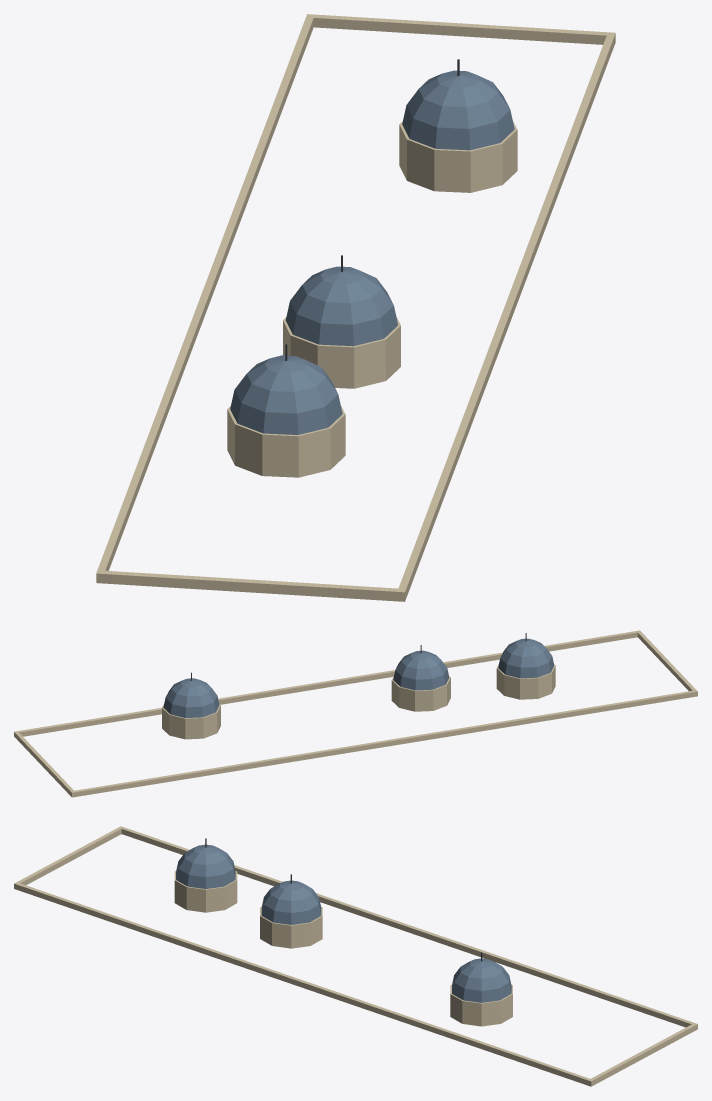
Rendered from hamam.glb.
3 views of the same model, one above another, from view 1: azimuth 30°, elevation 25°; view 2: azimuth 150°, elevation 25°; view 3: azimuth 270°, elevation 25° (orthographic). The views are drawn at different scales.
Visible parts, largest first — view 1: hamam; view 2: hamam; view 3: hamam.
Part boxes in pixels (x1,y1,x2,y2): hamam: (96, 14, 615, 601); hamam: (14, 630, 697, 797); hamam: (14, 826, 697, 1086).
Size of the model in its own units: 61.99 by 7.37 by 70.19.
